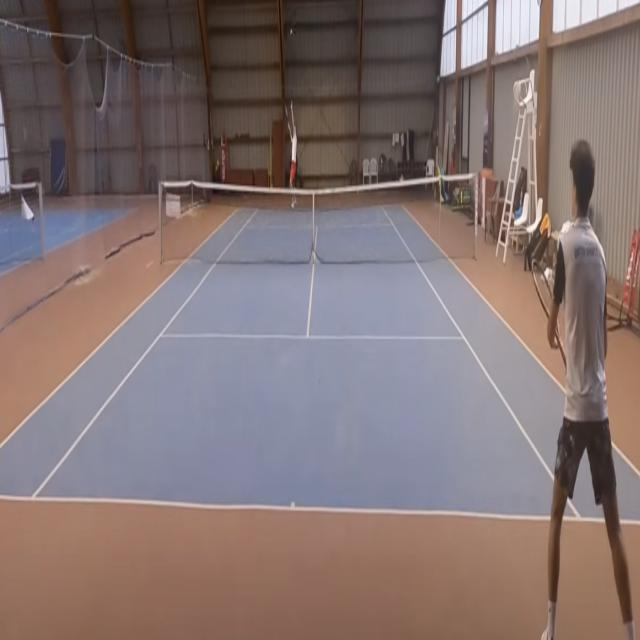ball: (290, 28, 292, 35)
